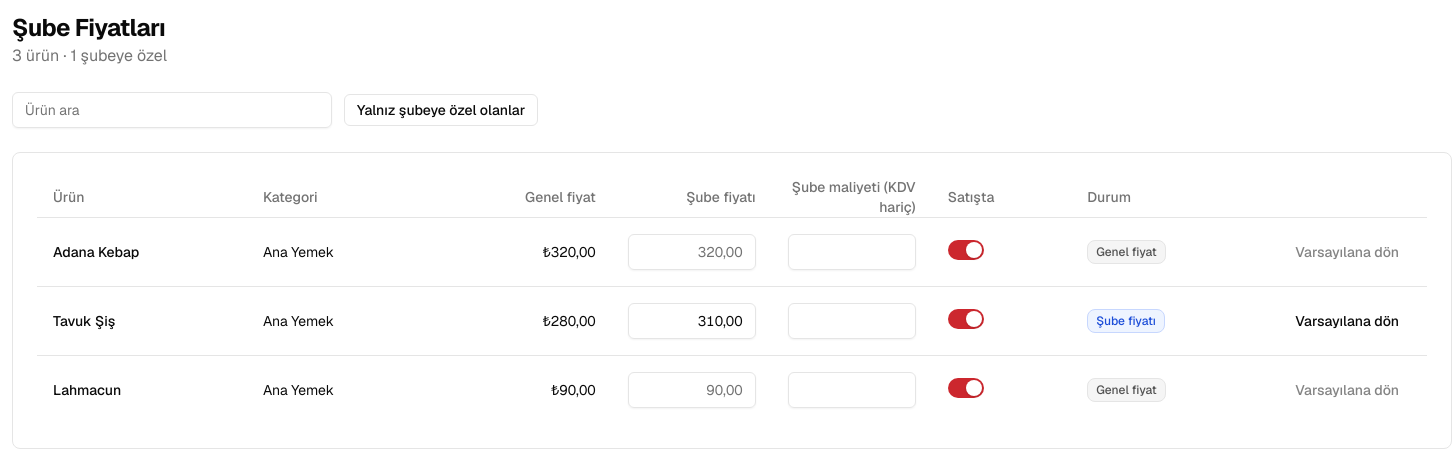
BranchPricing › 'Yalnız şubeye özel olanlar' narrows to differing products; an empty-row product does not count
Expected: the text "Adana Kebap" is shown, left=53, top=242, right=139, bottom=262
Expected: the row with test id "branch-pricing-row-p1" is shown, left=37, top=218, right=1427, bottom=286
Step 1. Click the button "Yalnız şubeye özel olanlar" → (441, 110), box left=344, top=94, right=538, bottom=126
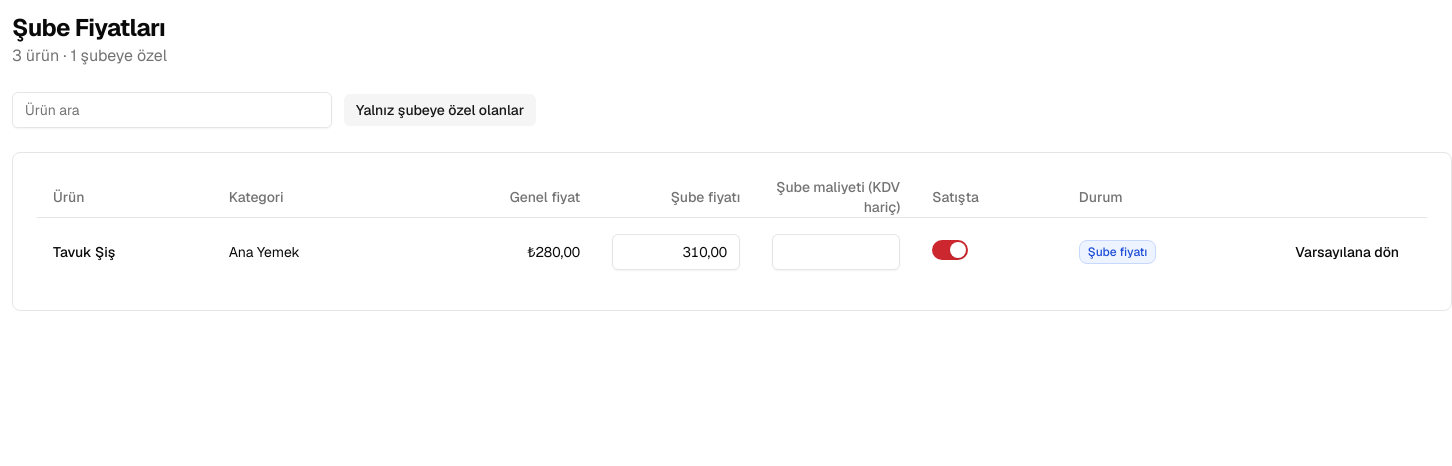
Expected: the text "Tavuk Şiş" is shown, left=53, top=242, right=115, bottom=262
Expected: the text "Adana Kebap" is gone
Expected: the text "Lahmacun" is gone
